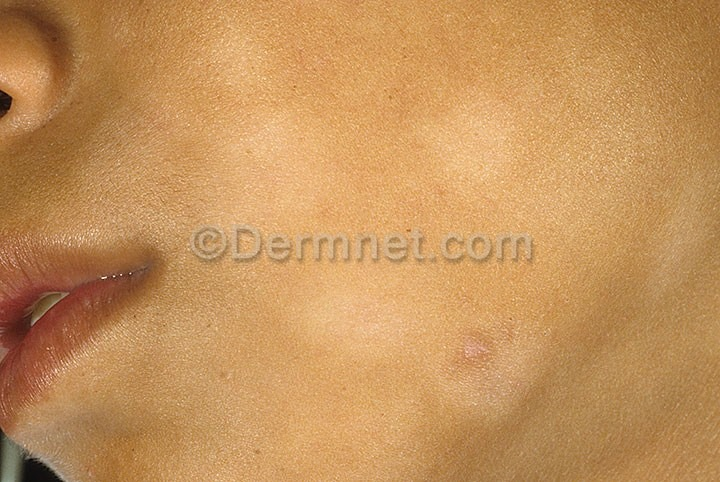Eczema: (405, 42, 641, 201), (189, 18, 324, 206), (628, 178, 720, 316), (445, 311, 578, 393)
